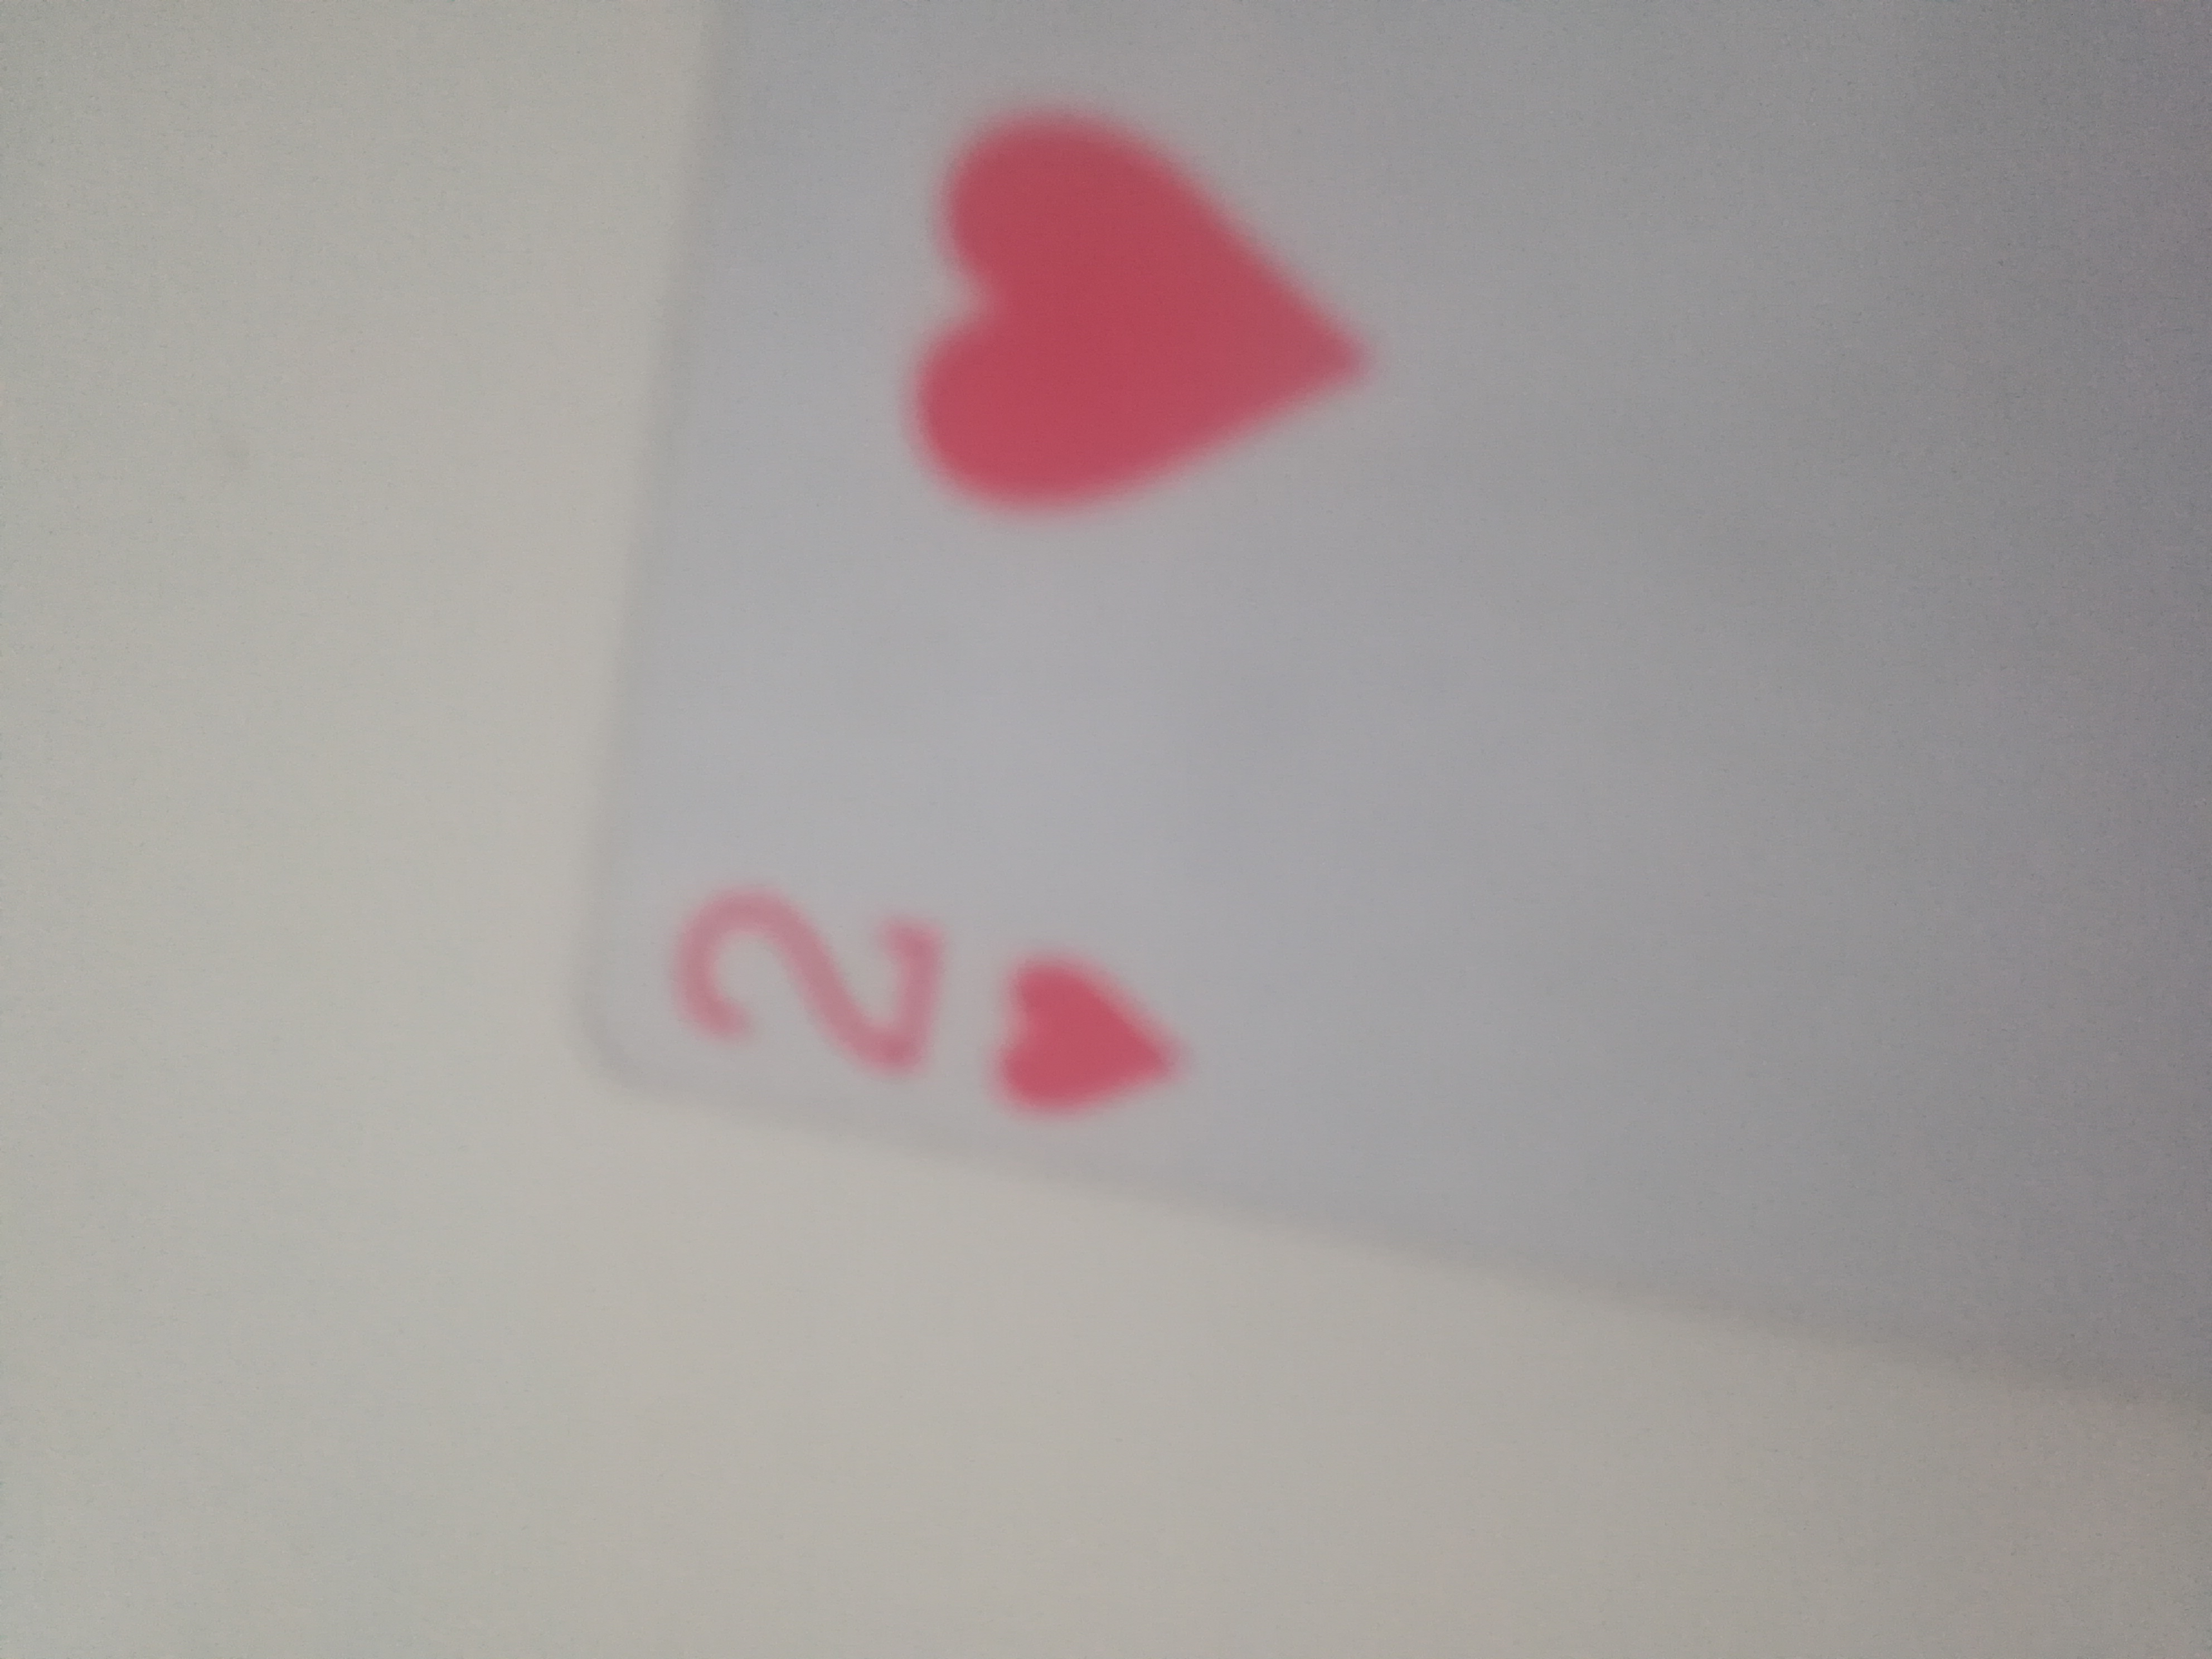2H: (575, 3, 2212, 1405)
